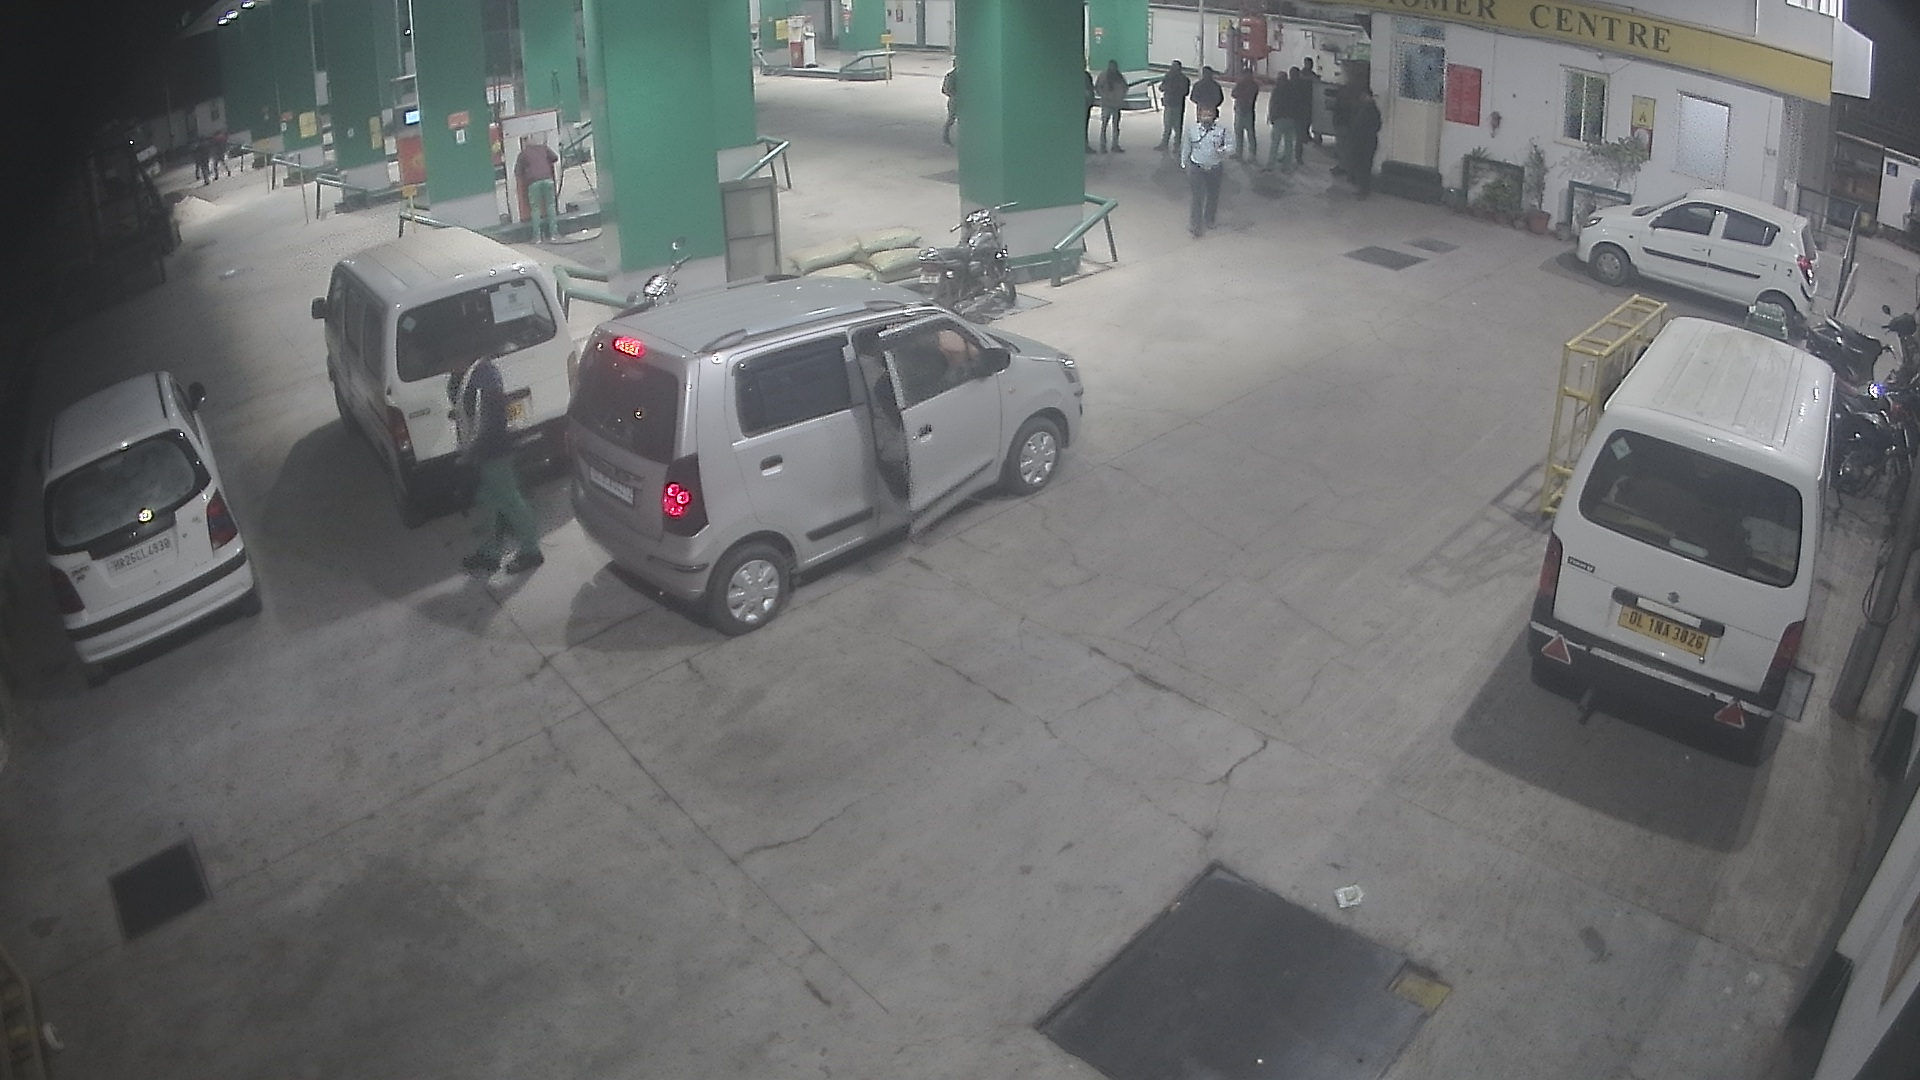Bike: (895, 189, 1027, 345), (1817, 368, 1917, 530), (591, 231, 700, 345), (1801, 286, 1917, 393), (1815, 339, 1917, 438)
Car: (530, 255, 1091, 662), (1520, 297, 1838, 781), (294, 196, 597, 541), (25, 345, 274, 707), (1563, 167, 1834, 349), (534, 95, 603, 231), (375, 61, 423, 125)
HMV: (25, 62, 171, 245)
Others Other: (287, 144, 318, 243), (251, 127, 284, 214), (394, 177, 427, 240), (878, 26, 899, 102)
